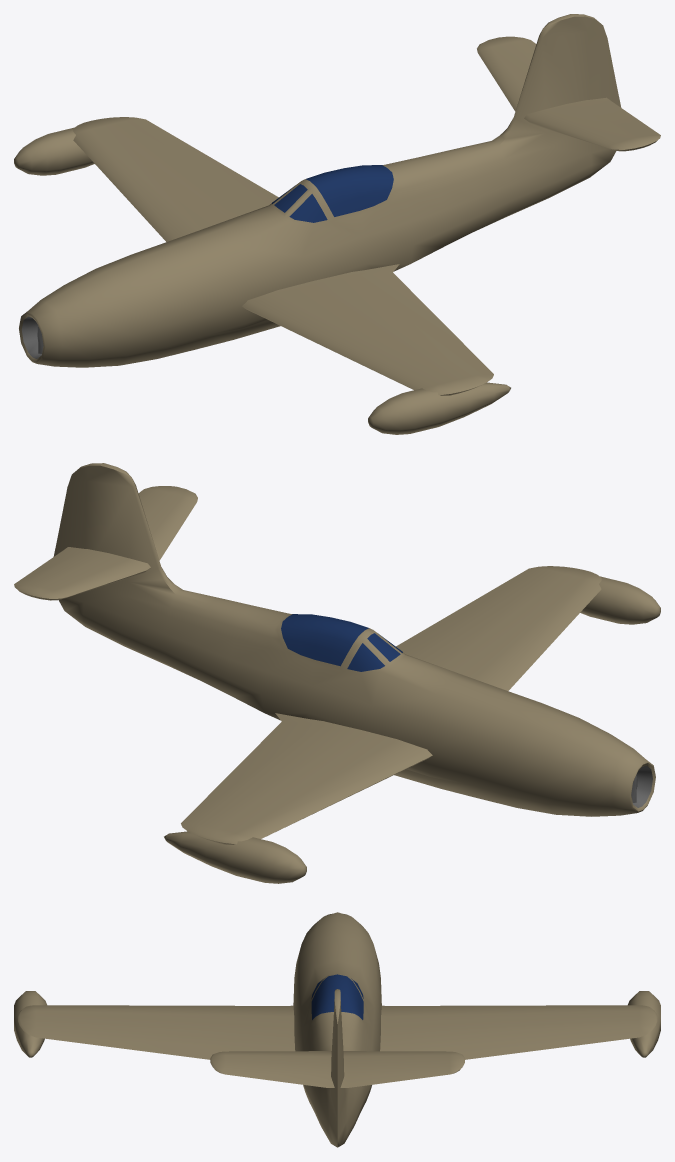
File: YAK23.glb
3 views of the same model, one above another, from view 1: azimuth 30°, elevation 25°; view 2: azimuth 150°, elevation 25°; view 3: azimuth 270°, elevation 25° (orthographic). The views are drawn at different scales.
Visible parts, largest first — view 1: yak23; view 2: yak23; view 3: yak23.
Part boxes in pixels (bbox=[...]): yak23: bbox=[14, 14, 660, 434]; yak23: bbox=[14, 463, 660, 883]; yak23: bbox=[14, 912, 660, 1147].
Size of the model in its own units: 10.08 by 3.87 by 11.
